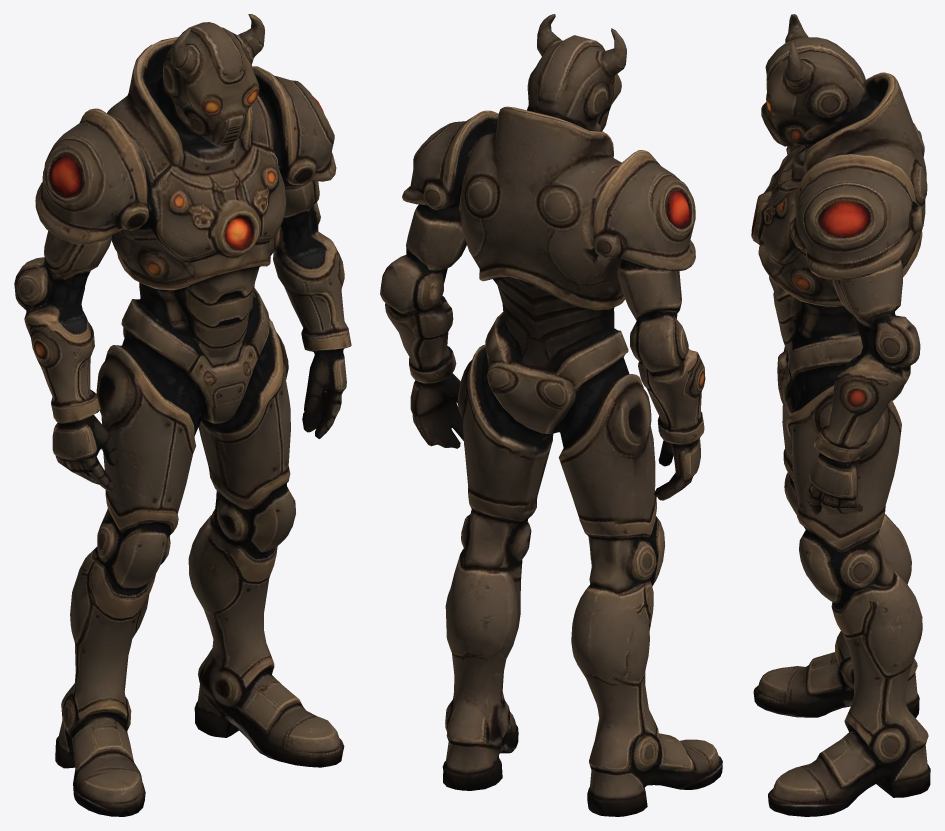
The model's file is titan.glb.
3 renders of one model, left to right at view 1: azimuth 30°, elevation 25°; view 2: azimuth 150°, elevation 25°; view 3: azimuth 270°, elevation 25°, orthographic. The views are drawn at different scales.
Bounding box in the file's own units: 0.8079 × 1.9 × 0.4213.
1 material, 1 textured.
